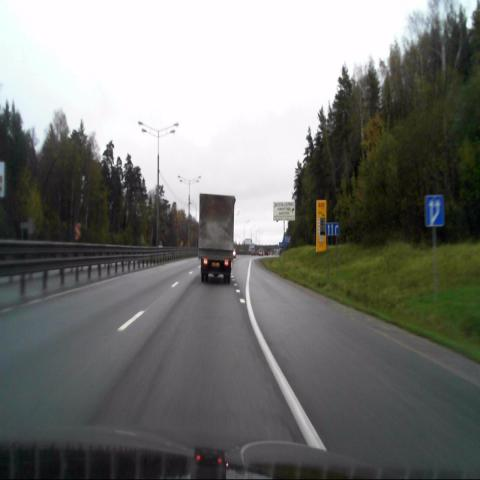5_15_3: (424, 195, 444, 227)
